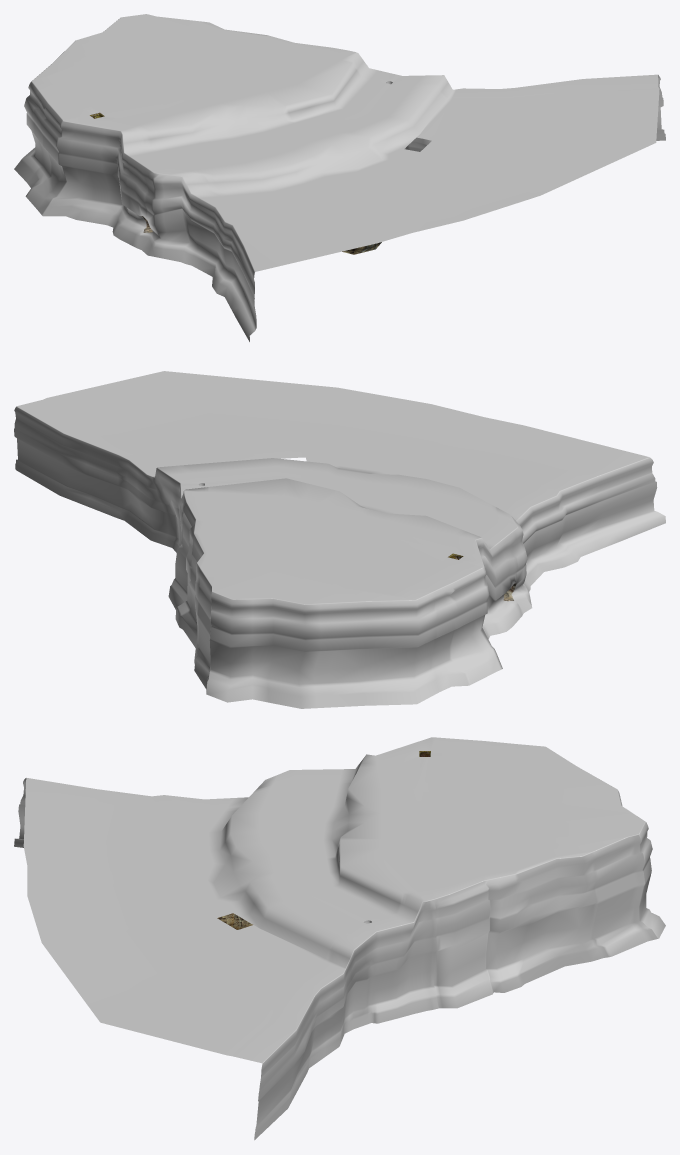
File: peninsulaModel_Full03.fbx
The picture shows the model from 3 angles, top to bottom: view 1: azimuth 30°, elevation 25°; view 2: azimuth 150°, elevation 25°; view 3: azimuth 270°, elevation 25°; orthographic projection. The views are drawn at different scales.
Parts seen in each view (by area): view 1: peninsula01; view 2: peninsula01; view 3: peninsula01.
Part boxes in pixels (x1=…): peninsula01: x1=14, y1=14, x2=665, y2=341; peninsula01: x1=14, y1=371, x2=665, y2=708; peninsula01: x1=14, y1=737, x2=665, y2=1140.
Size of the model in its own units: 5971 by 967 by 5331.
